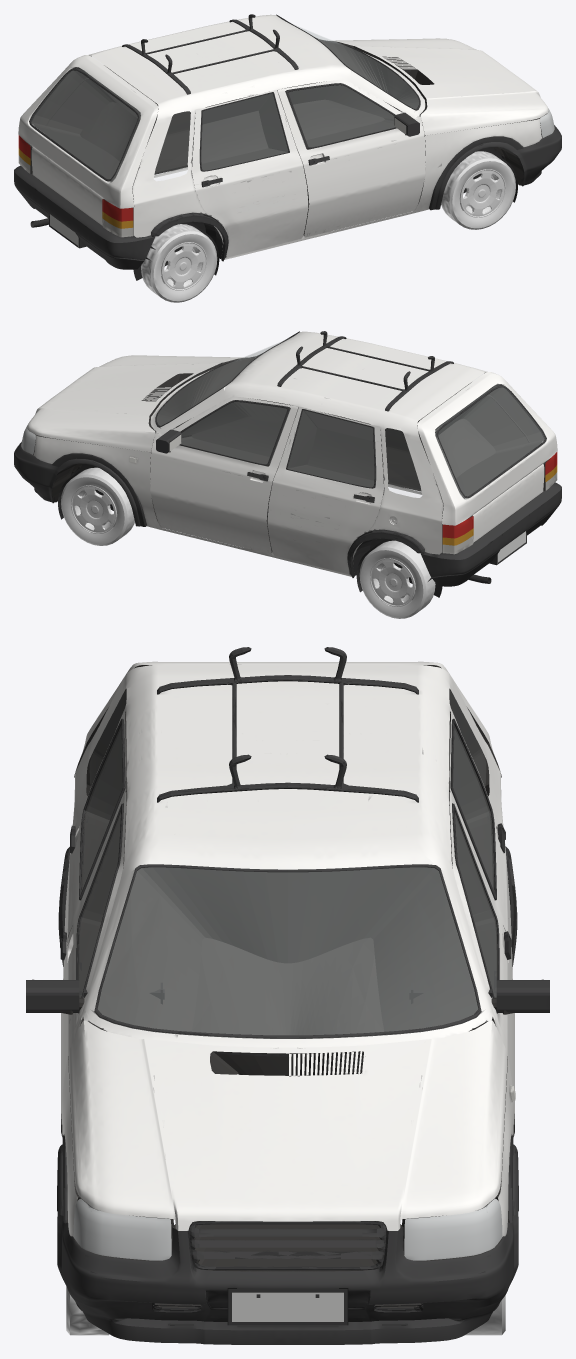
Rendered from furgaozinho.glb.
3 renders of one model, top to bottom at view 1: azimuth 30°, elevation 25°; view 2: azimuth 150°, elevation 25°; view 3: azimuth 270°, elevation 25°, orthographic. The views are drawn at different scales.
Visible parts, largest first — view 1: body, door_fr, hood, door_rr, trunk, glass_rear, glass_door_rr, glass_door_fr, fender_front_right, bumper_rear, wheel_rr_tire, wheel_fr_tire (+9 smaller); view 2: body, door_fl, hood, door_rl, trunk, glass_rear, glass_door_rl, glass_door_fl, fender_front_left, bumper_rear, wheel_rl_tire, wheel_fl_tire (+9 smaller); view 3: body, hood, glass_windshield, bumper_front, grille, roof_rack, plate_front, headlight_left, headlight_right, door_fr, glass_door_rr, glass_door_rl (+11 smaller).
Boxes of the visible parts, left/top/right/bottom form: body: left=19, top=14, right=555, bottom=280; door_fr: left=277, top=80, right=425, bottom=237; hood: left=328, top=38, right=548, bottom=135; door_rr: left=192, top=90, right=308, bottom=257; trunk: left=18, top=55, right=158, bottom=225; glass_rear: left=31, top=67, right=140, bottom=181; glass_door_rr: left=201, top=93, right=287, bottom=169; glass_door_fr: left=286, top=83, right=394, bottom=148; fender_front_right: left=419, top=118, right=542, bottom=211; bumper_rear: left=14, top=165, right=155, bottom=269; wheel_rr_tire: left=141, top=224, right=217, bottom=302; wheel_fr_tire: left=441, top=151, right=515, bottom=229; body: left=20, top=331, right=556, bottom=597; door_fl: left=150, top=396, right=298, bottom=554; hood: left=27, top=355, right=247, bottom=452; door_rl: left=267, top=407, right=383, bottom=573; trunk: left=417, top=372, right=557, bottom=542; glass_rear: left=435, top=384, right=544, bottom=498; glass_door_rl: left=288, top=410, right=374, bottom=486; glass_door_fl: left=181, top=402, right=290, bottom=464; fender_front_left: left=33, top=435, right=156, bottom=528; bumper_rear: left=420, top=482, right=561, bottom=586; wheel_rl_tire: left=359, top=540, right=435, bottom=618; wheel_fl_tire: left=61, top=467, right=134, bottom=545; body: left=32, top=665, right=543, bottom=1307; hood: left=68, top=1020, right=507, bottom=1230; glass_windshield: left=95, top=867, right=479, bottom=1038; bumper_front: left=57, top=1212, right=518, bottom=1344; grille: left=189, top=1221, right=386, bottom=1270; roof_rack: left=157, top=647, right=418, bottom=802; plate_front: left=227, top=1288, right=348, bottom=1325; headlight_left: left=404, top=1198, right=502, bottom=1260; headlight_right: left=73, top=1198, right=171, bottom=1260; door_fr: left=61, top=792, right=126, bottom=1137; glass_door_rr: left=82, top=725, right=125, bottom=888; glass_door_rl: left=450, top=728, right=494, bottom=890.
Bounding box in the file's own units: 3.64 × 1.56 × 1.78.
12 materials, 7 textured.
